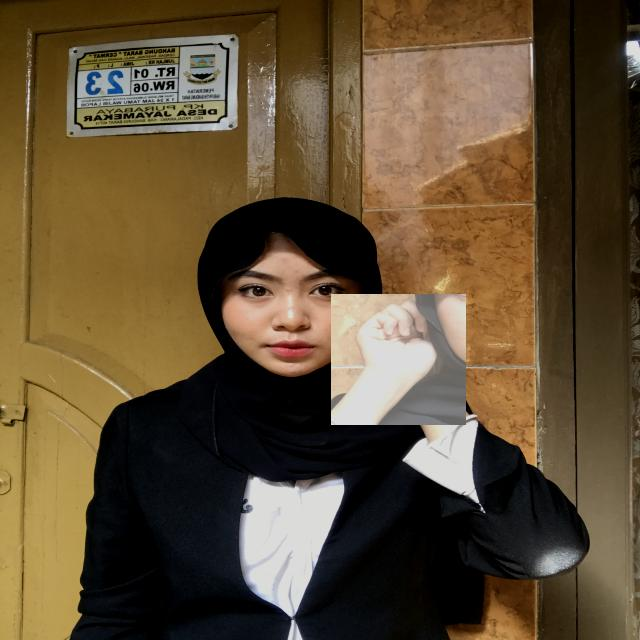ibu: (331, 294, 466, 425)
